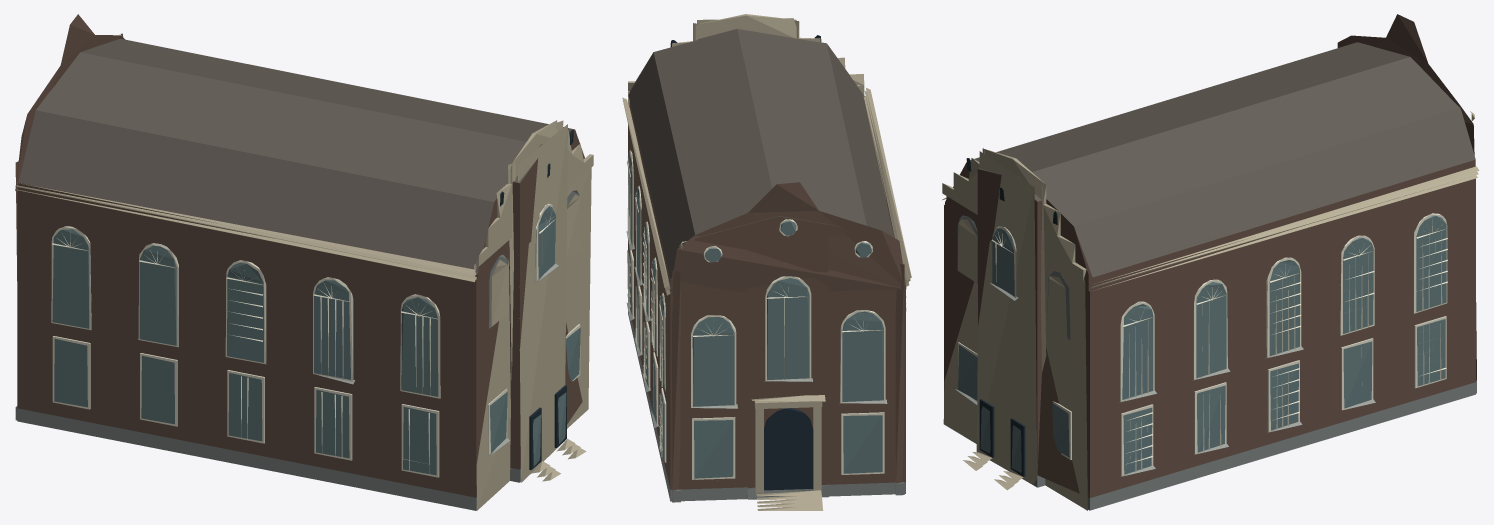
The model's file is uilenburger-synagoge.lod1.glb.
The picture shows the model from 3 angles, left to right: view 1: azimuth 30°, elevation 25°; view 2: azimuth 150°, elevation 25°; view 3: azimuth 270°, elevation 25°; orthographic projection. The views are drawn at different scales.
Parts seen in each view (by area): view 1: uilenburger-synagoge; view 2: uilenburger-synagoge; view 3: uilenburger-synagoge.
Part boxes in pixels (x1,y1,x2,y2): uilenburger-synagoge: (15,14,593,510); uilenburger-synagoge: (622,14,911,510); uilenburger-synagoge: (942,14,1479,510).
Size of the model in its own units: 22.45 by 16.79 by 24.64.
